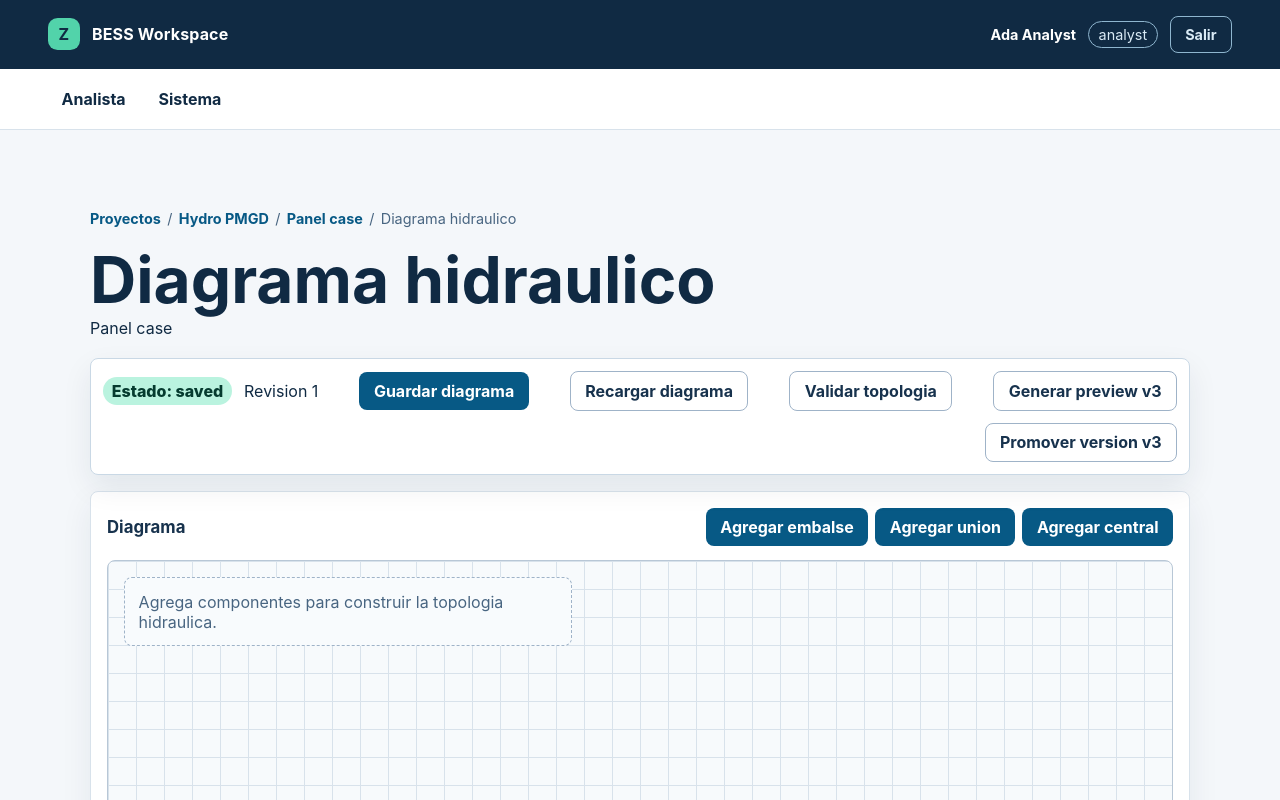
Test: application shell › shows a contextual properties panel for the selected object and never exposes x/y there
Check: the heading "Diagrama hidraulico" is shown, box left=90, top=241, right=716, bottom=318
Click the button "Agregar union" at (945, 527), box left=875, top=508, right=1015, bottom=546
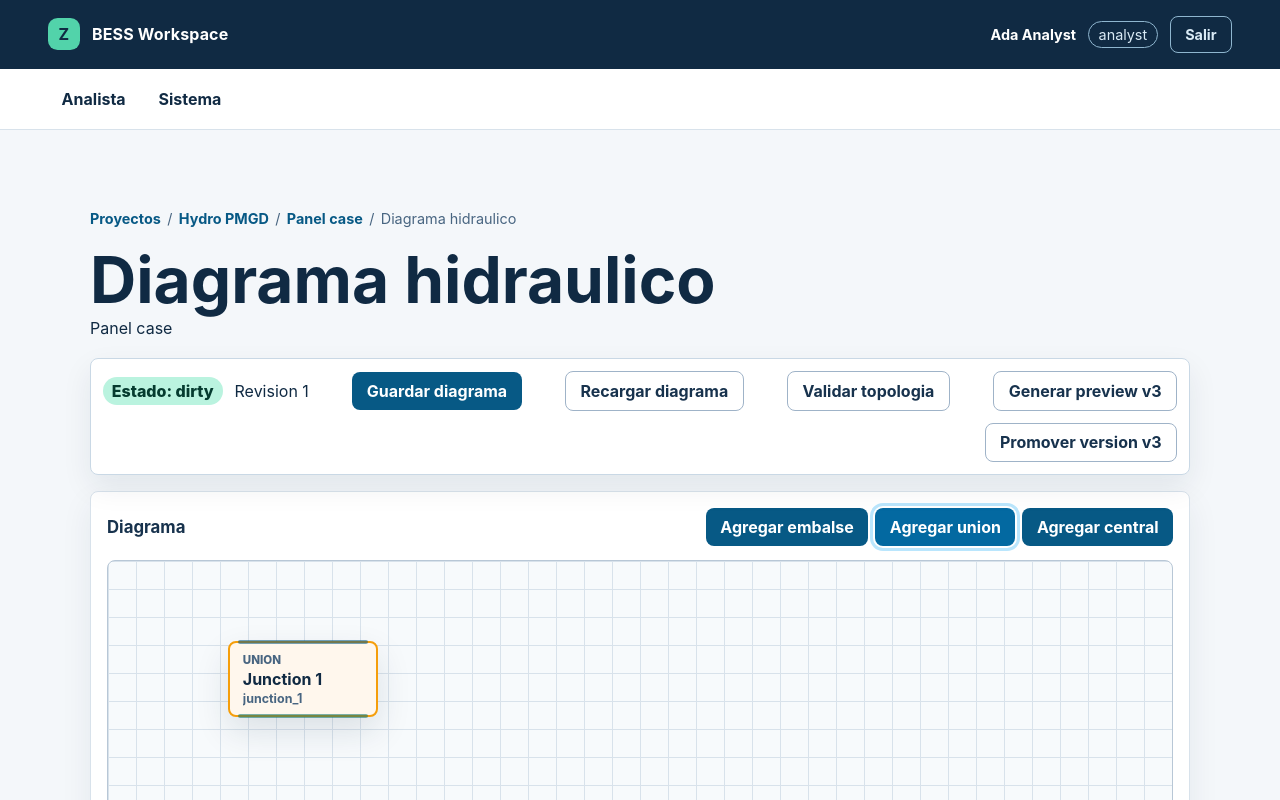
Press the mouse on the element with test id "hydraulic-canvas-node-junction_1" at (303, 679), box left=228, top=641, right=378, bottom=717
(page scrolled)
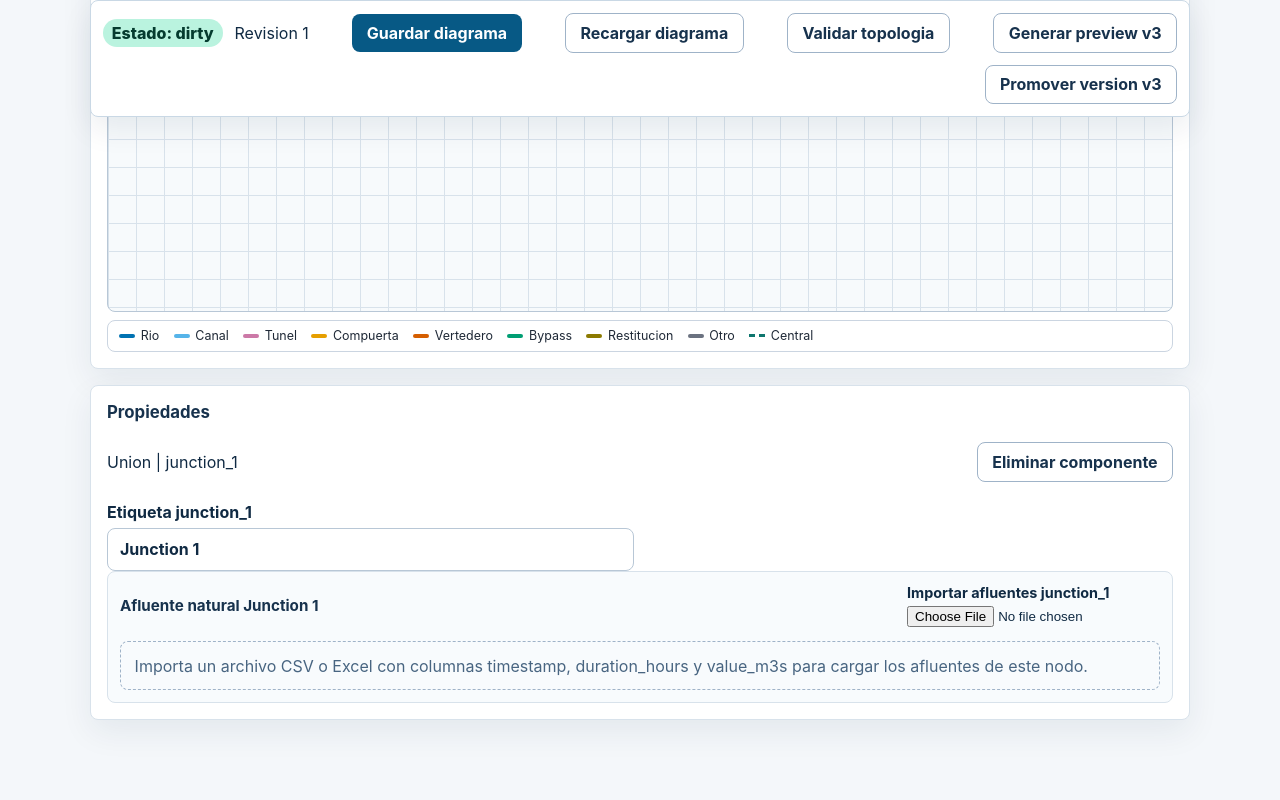
Check: the field labelled "Etiqueta junction_1" is shown, box left=107, top=528, right=634, bottom=571
